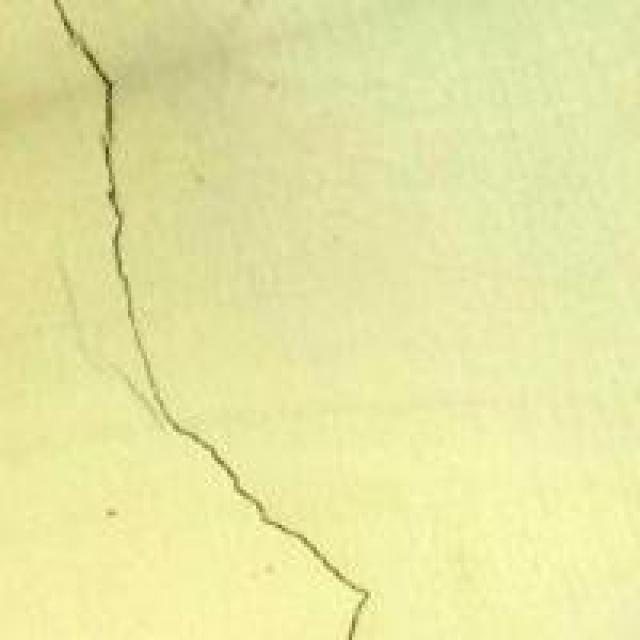Crack: (26, 0, 390, 637)
